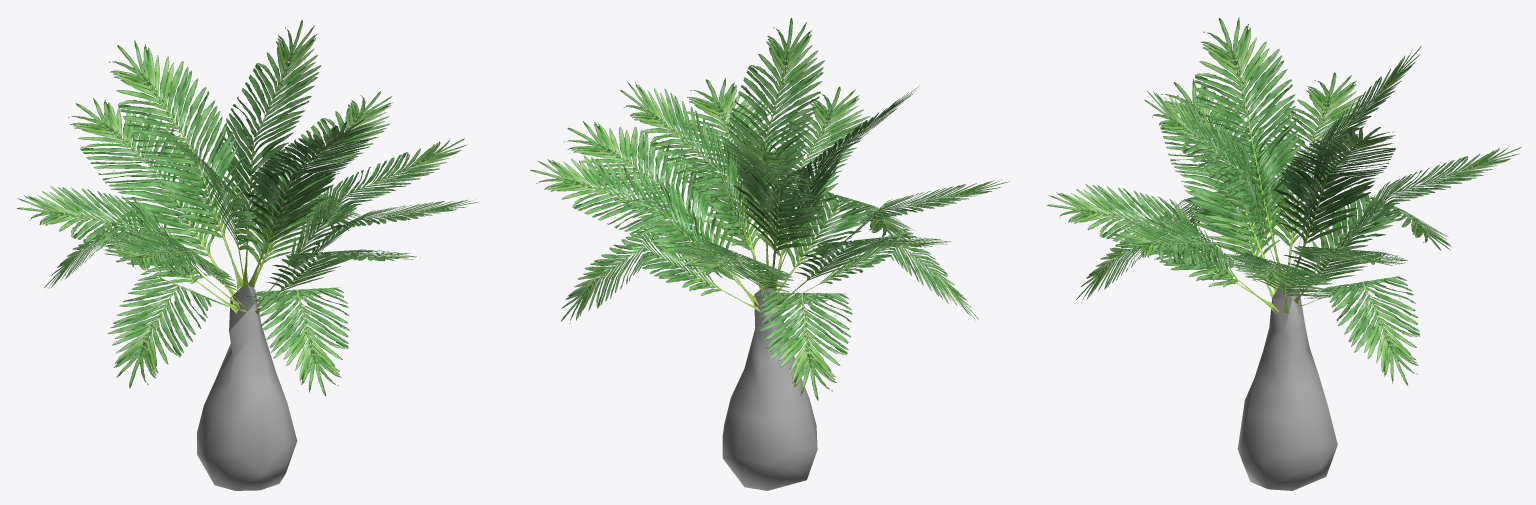
Rendered from Hyp_2s_LOD1.fbx.
3 renders of one model, left to right at view 1: azimuth 30°, elevation 25°; view 2: azimuth 150°, elevation 25°; view 3: azimuth 270°, elevation 25°, orthographic.
Parts seen in each view (by area): view 1: Hyp_LOD1; view 2: Hyp_LOD1; view 3: Hyp_LOD1.
Part boxes in pixels (box(x1,y1,x2,y2)): Hyp_LOD1: box(17, 20, 478, 490); Hyp_LOD1: box(530, 18, 1009, 490); Hyp_LOD1: box(1047, 17, 1521, 490).
Size of the model in its own units: 1249 by 1098 by 1178.
